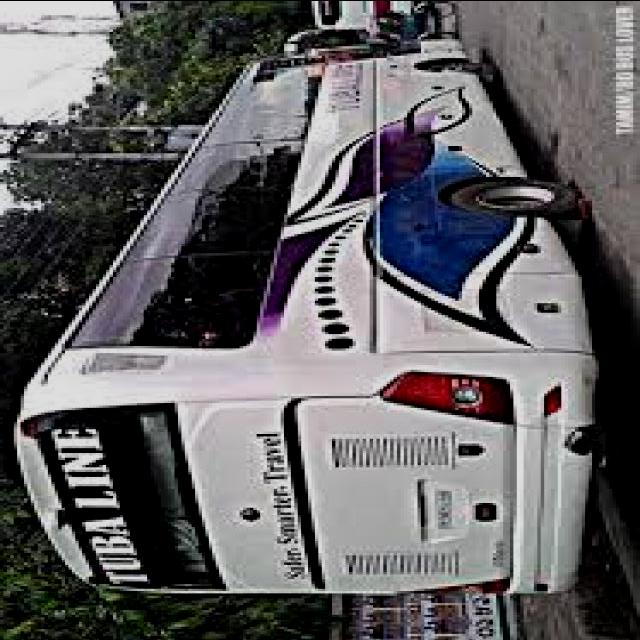bus: (15, 26, 603, 596)
